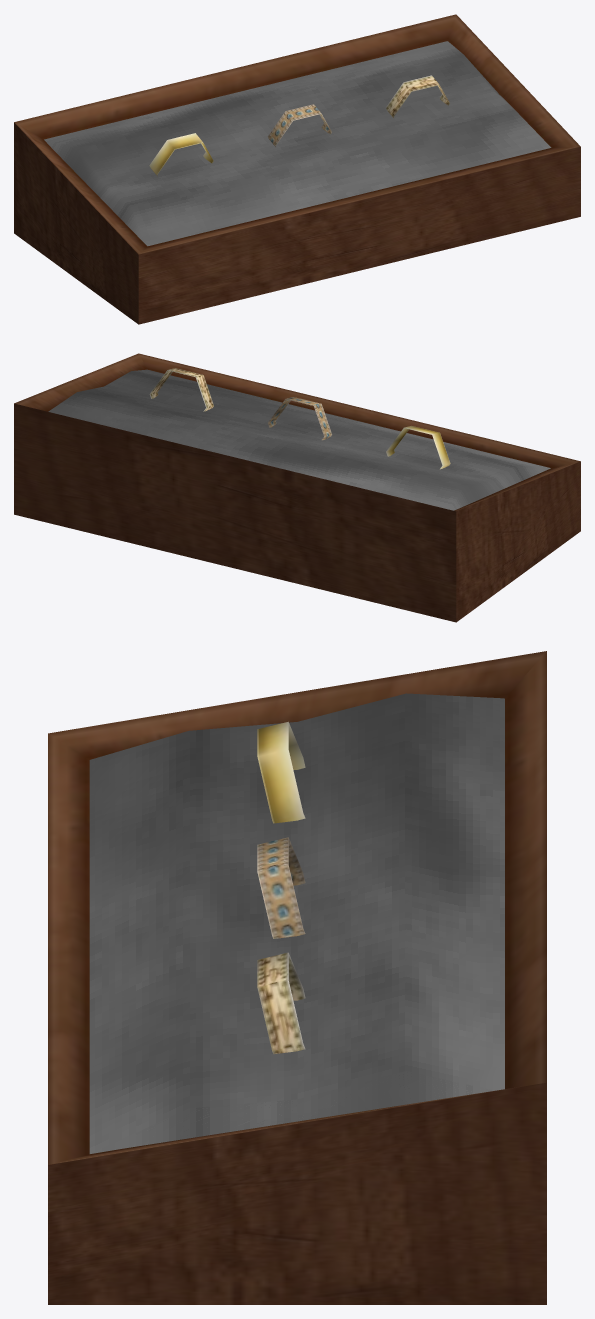
Rendered from shop_jeweler_ringBox02.fbx.
3 renders of one model, top to bottom at view 1: azimuth 30°, elevation 25°; view 2: azimuth 150°, elevation 25°; view 3: azimuth 270°, elevation 25°, orthographic. The views are drawn at different scales.
Visible parts, largest first — view 1: ringBox_wood, ringBox_velvet, rinBox_ring01, rinBox_ring02, rinBox_ring03; view 2: ringBox_wood, ringBox_velvet, rinBox_ring03, rinBox_ring01, rinBox_ring02; view 3: ringBox_velvet, ringBox_wood, rinBox_ring03, rinBox_ring01, rinBox_ring02.
Boxes of the visible parts, x1=… form: ringBox_wood: x1=14, y1=14, x2=580, y2=324; ringBox_velvet: x1=44, y1=41, x2=551, y2=246; rinBox_ring01: x1=149, y1=133, x2=213, y2=176; rinBox_ring02: x1=267, y1=104, x2=331, y2=146; rinBox_ring03: x1=386, y1=75, x2=449, y2=117; ringBox_wood: x1=14, y1=353, x2=580, y2=622; ringBox_velvet: x1=48, y1=369, x2=550, y2=510; rinBox_ring03: x1=149, y1=368, x2=213, y2=411; rinBox_ring01: x1=386, y1=426, x2=450, y2=469; rinBox_ring02: x1=268, y1=397, x2=331, y2=440; ringBox_velvet: x1=89, y1=693, x2=504, y2=1153; ringBox_wood: x1=48, y1=651, x2=546, y2=1304; rinBox_ring03: x1=257, y1=952, x2=305, y2=1054; rinBox_ring01: x1=257, y1=721, x2=305, y2=823; rinBox_ring02: x1=257, y1=837, x2=305, y2=938.
Bounding box in the file's own units: 62.03 × 15.95 × 30.29.
3 materials, 3 textured.
